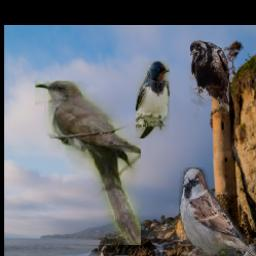Crow: (190, 41, 230, 120)
Cuckoo: (36, 82, 142, 246)
Sparrow: (179, 168, 256, 256)
Swallow: (137, 61, 171, 138)
